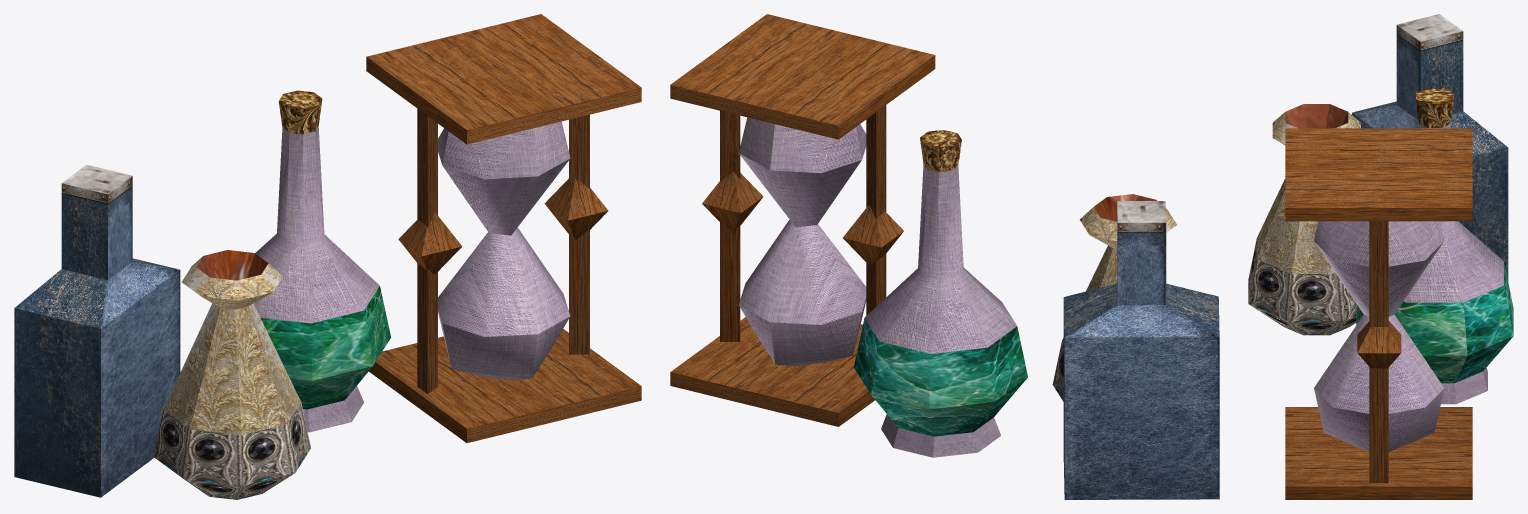
Rendered from mm9_deco_shelfitem03hwc.glb.
3 views of the same model, side by side, from view 1: azimuth 30°, elevation 25°; view 2: azimuth 150°, elevation 25°; view 3: azimuth 270°, elevation 25° (orthographic). The views are drawn at different scales.
Visible parts, largest first — view 1: Shelfitem03hwc; view 2: Shelfitem03hwc; view 3: Shelfitem03hwc.
Boxes of the visible parts, x1,y1,x2,y2 form: Shelfitem03hwc: (14,14,641,499); Shelfitem03hwc: (670,14,1219,499); Shelfitem03hwc: (1248,14,1513,499).
Bounding box in the file's own units: 0.6747 × 0.364 × 0.2998.
Materials: 2 (2 with a texture image).
